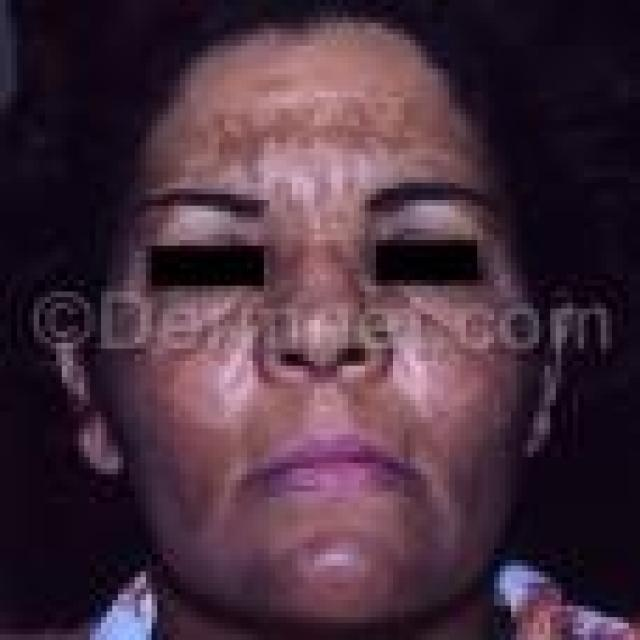Melasma: (170, 106, 451, 172), (140, 356, 233, 526), (410, 394, 501, 518)
